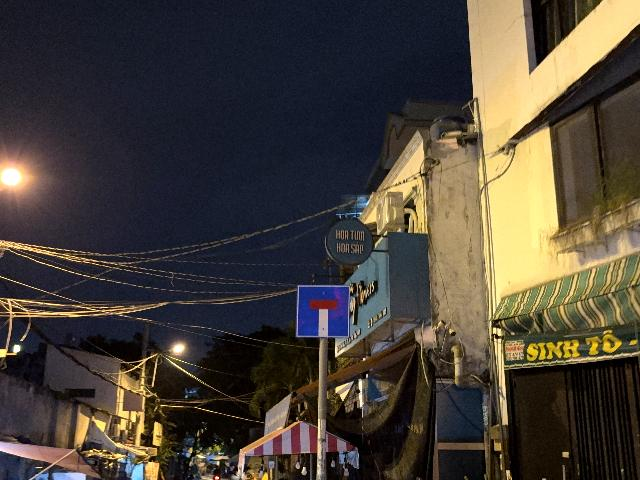duong-cut: (296, 285, 350, 338)
